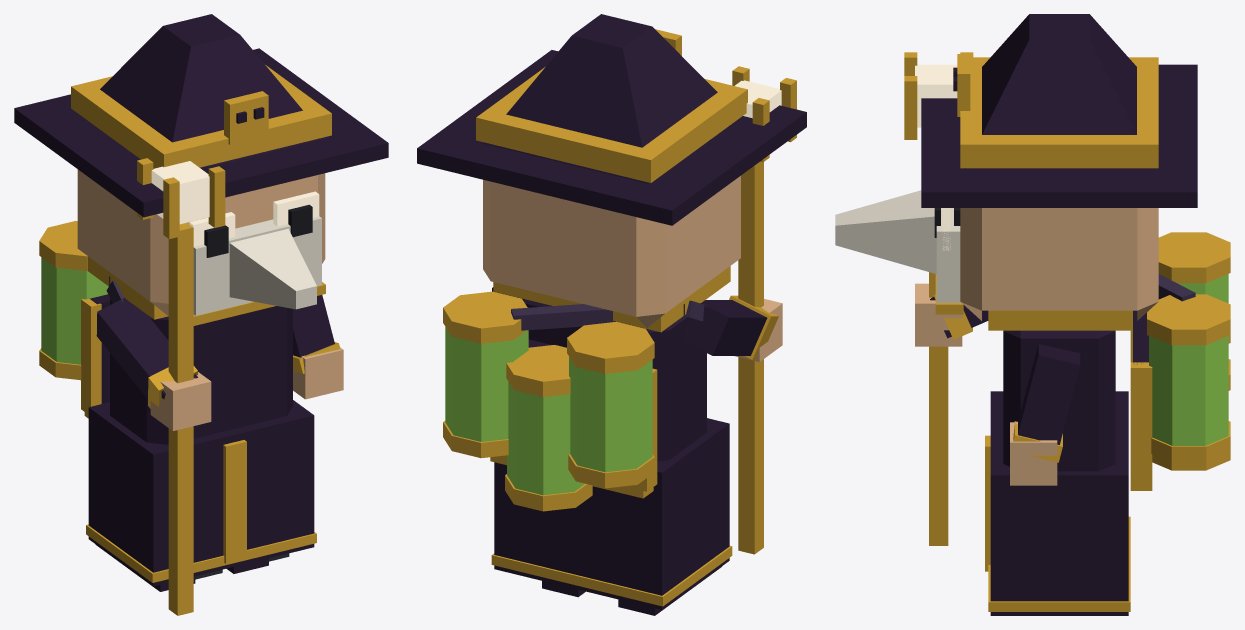
The model's file is weakener_legend.glb.
3 views of the same model, side by side, from view 1: azimuth 30°, elevation 25°; view 2: azimuth 150°, elevation 25°; view 3: azimuth 270°, elevation 25° (orthographic). The views are drawn at different scales.
Visible parts, largest first — view 1: weakener_legend_mesh; view 2: weakener_legend_mesh; view 3: weakener_legend_mesh.
Part boxes in pixels (x1,y1,x2,y2): weakener_legend_mesh: [14, 14, 388, 615]; weakener_legend_mesh: [417, 14, 806, 615]; weakener_legend_mesh: [835, 14, 1230, 615].
Bounding box in the file's own units: 0.6408 × 1.3 × 0.8395.
Materials: 2 (2 with a texture image).
